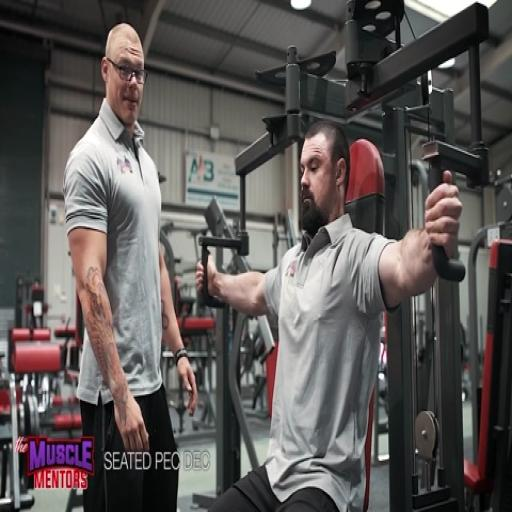exercise: (193, 118, 463, 511), (60, 20, 199, 510)
